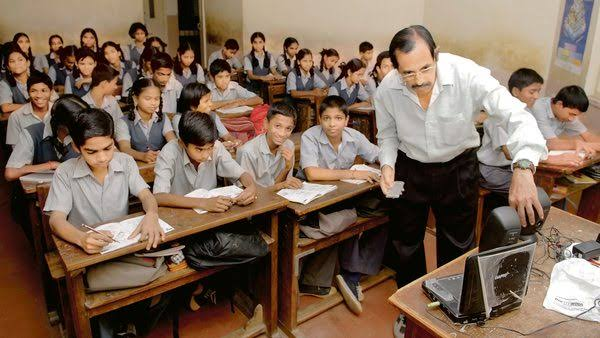student: (65, 111, 133, 176), (175, 112, 223, 172), (505, 65, 551, 111), (257, 101, 298, 148), (317, 98, 353, 145), (47, 91, 88, 130), (551, 85, 590, 126), (89, 64, 131, 96), (143, 55, 179, 89), (181, 79, 209, 122), (135, 77, 169, 111), (207, 62, 237, 95), (335, 55, 365, 83), (26, 76, 53, 107), (219, 34, 245, 63), (245, 23, 267, 57), (292, 43, 315, 74), (175, 45, 199, 69), (353, 39, 375, 65), (320, 42, 340, 69), (281, 36, 300, 57)
